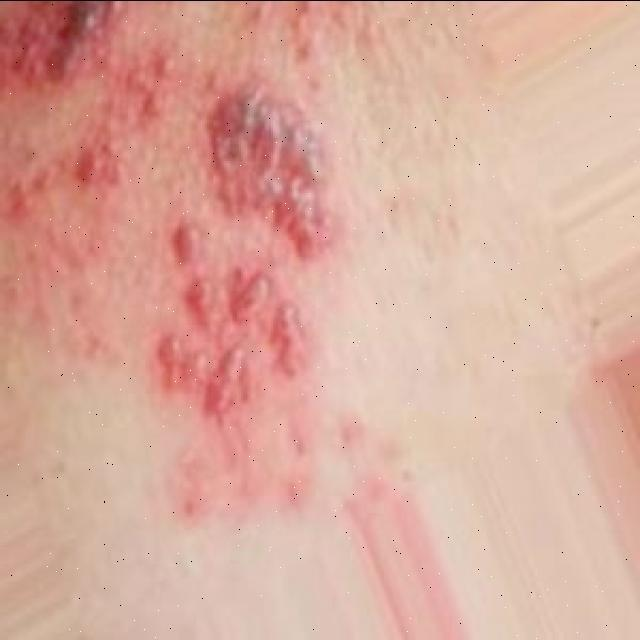Shingles: (153, 215, 310, 414), (8, 56, 178, 226), (205, 78, 339, 267), (2, 0, 117, 100)
